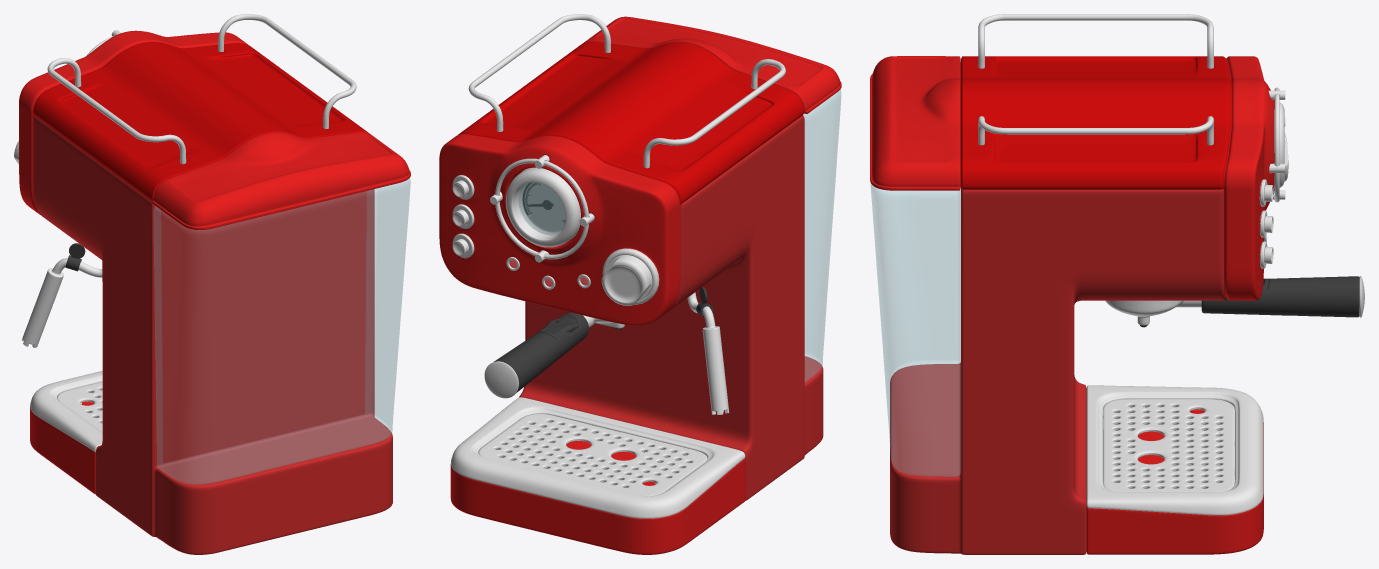
File: coffee-transformed.glb
3 views of the same model, side by side, from view 1: azimuth 30°, elevation 25°; view 2: azimuth 150°, elevation 25°; view 3: azimuth 270°, elevation 25° (orthographic). The views are drawn at different scales.
Visible parts, largest first — view 1: Create_coffee_machine_very_original, WaterBucket, Attachments, Bottom_Part; view 2: Create_coffee_machine_very_original, Bottom_Part, Attachments, WaterBucket, Handle, Removable; view 3: Create_coffee_machine_very_original, WaterBucket, Bottom_Part, Attachments, Handle.
Boxes of the visible parts, x1,y1,x2,y2 form: Create_coffee_machine_very_original: [19, 30, 392, 554]; WaterBucket: [152, 132, 410, 484]; Attachments: [14, 14, 356, 432]; Bottom_Part: [30, 370, 102, 494]; Create_coffee_machine_very_original: [439, 42, 823, 500]; Bottom_Part: [450, 397, 745, 554]; Attachments: [452, 14, 785, 496]; WaterBucket: [583, 16, 841, 382]; Handle: [484, 312, 624, 398]; Removable: [518, 183, 565, 234]; Create_coffee_machine_very_original: [890, 56, 1284, 554]; WaterBucket: [870, 56, 960, 476]; Bottom_Part: [1086, 385, 1263, 554]; Attachments: [978, 14, 1288, 492]; Handle: [1105, 276, 1364, 327].
Bounding box in the file's own units: 0.2314 × 0.3427 × 0.3617.
